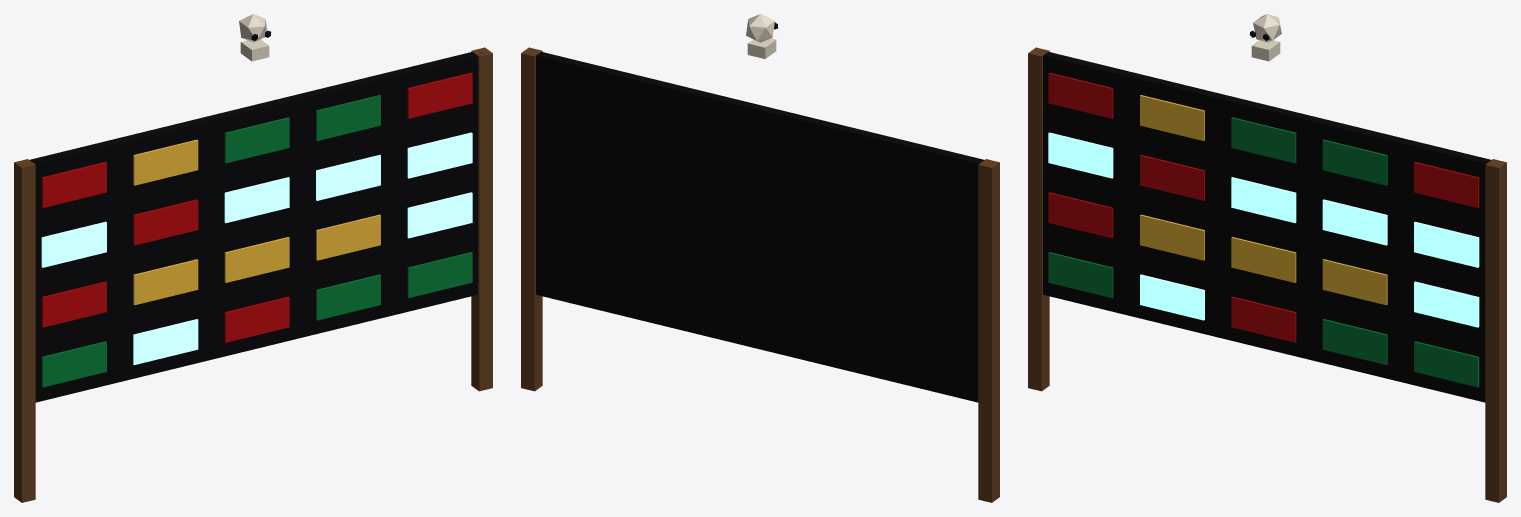
The model's file is Prop_OR_OddsBoard_11.glb.
3 views of the same model, side by side, from view 1: azimuth 30°, elevation 25°; view 2: azimuth 150°, elevation 25°; view 3: azimuth 330°, elevation 25° (orthographic).
Parts seen in each view (by area): view 1: Prop_OR_OddsBoard_11; view 2: Prop_OR_OddsBoard_11; view 3: Prop_OR_OddsBoard_11.
Boxes of the visible parts, box(x1,y1,x2,y2) form: Prop_OR_OddsBoard_11: box(14, 14, 492, 502); Prop_OR_OddsBoard_11: box(521, 14, 999, 502); Prop_OR_OddsBoard_11: box(1028, 14, 1506, 502).
Bounding box in the file's own units: 5.15 × 4.48 × 0.3057.
